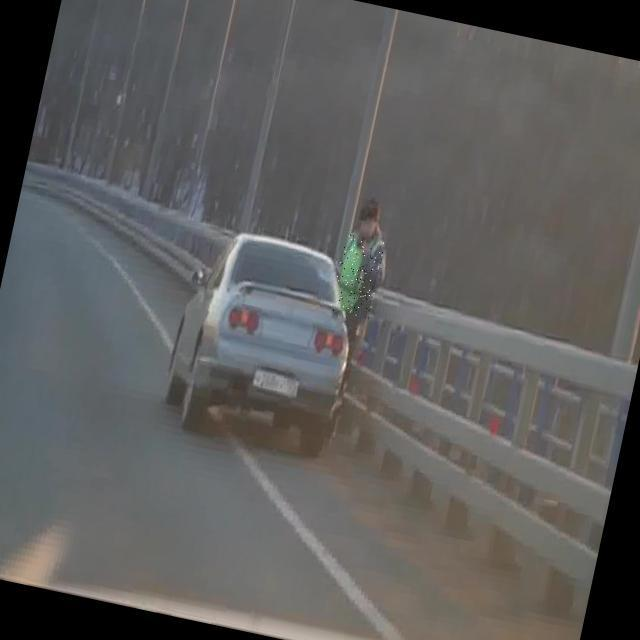Person: (325, 191, 396, 390)
Safety Vest: (329, 234, 385, 319)
no-helmet: (355, 197, 385, 220)
